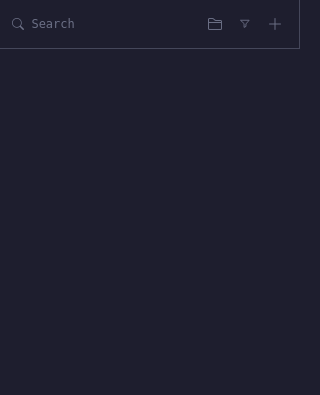
Test: SessionSidebar › hides snoozed pins and reveals snoozed rows independently of archives in recent
Expected: the text "Snoozed pin" is not shown
Expected: the text "Snoozed row" is not shown
What coordinates should you click on to do the following:
click the button named "Filter sessions"
I would click on:
 (245, 24)
Its box is top-left (233, 12), bottom-right (257, 36).
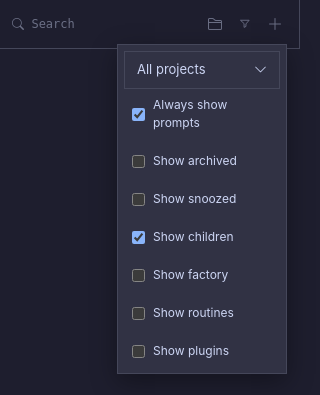
Expected: the checkbox labelled "Show snoozed" is not checked
What coordinates should you click on to do the following:
click the checkbox labelled "Show snoozed"
I would click on:
 (138, 199)
Its box is top-left (132, 192), bottom-right (145, 206).
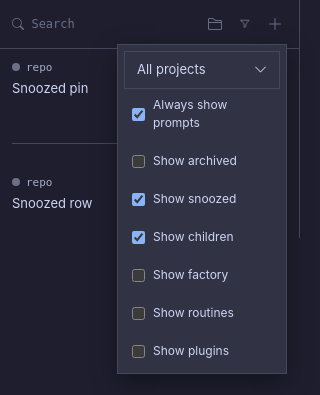
Expected: the text "Snoozed pin" is shown, top-left (12, 80), bottom-right (88, 96)
Expected: the text "Snoozed row" is shown, top-left (12, 194), bottom-right (92, 210)
What coordinates should you click on to do the following:
click the checkbox labelled "Show snoozed"
I would click on:
 (138, 199)
Its box is top-left (132, 192), bottom-right (145, 206).
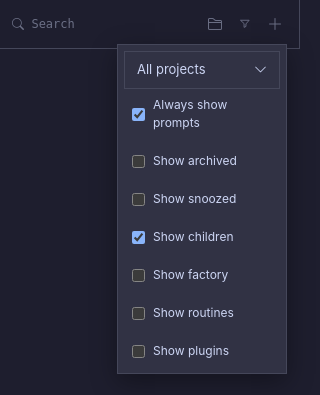
Expected: the button "Snoozed pin" is gone
